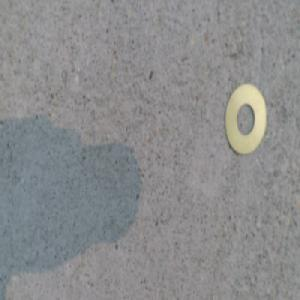Washer: (222, 83, 266, 158)
